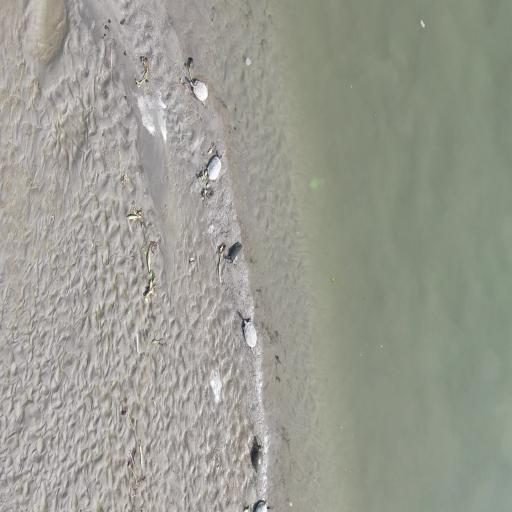turtle: (205, 150, 227, 185), (242, 317, 258, 353), (188, 78, 209, 105), (230, 232, 246, 267), (252, 442, 266, 477)
